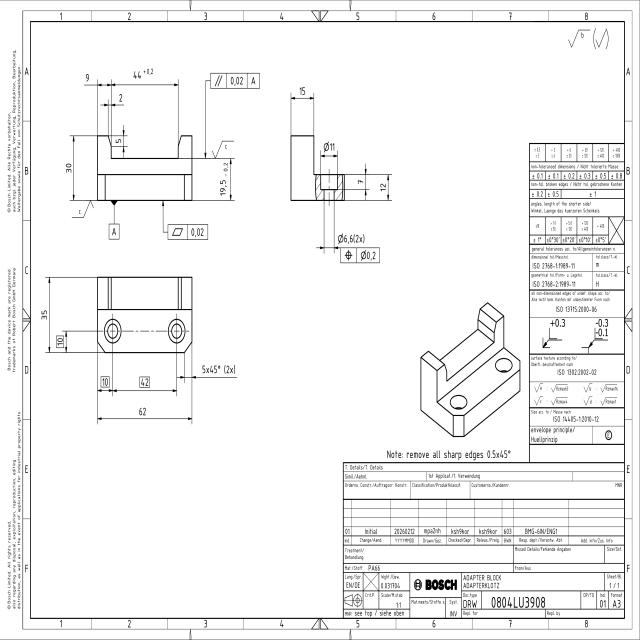dimension: (201, 362, 237, 376), (218, 159, 230, 198), (336, 231, 366, 246), (132, 64, 155, 81), (321, 139, 336, 155), (138, 375, 152, 389), (100, 374, 111, 388), (55, 334, 65, 349), (138, 404, 148, 418), (298, 84, 307, 98), (40, 308, 49, 322), (378, 181, 388, 193), (64, 162, 72, 175), (84, 70, 91, 83), (117, 92, 124, 104), (114, 137, 122, 145), (356, 178, 364, 185)
